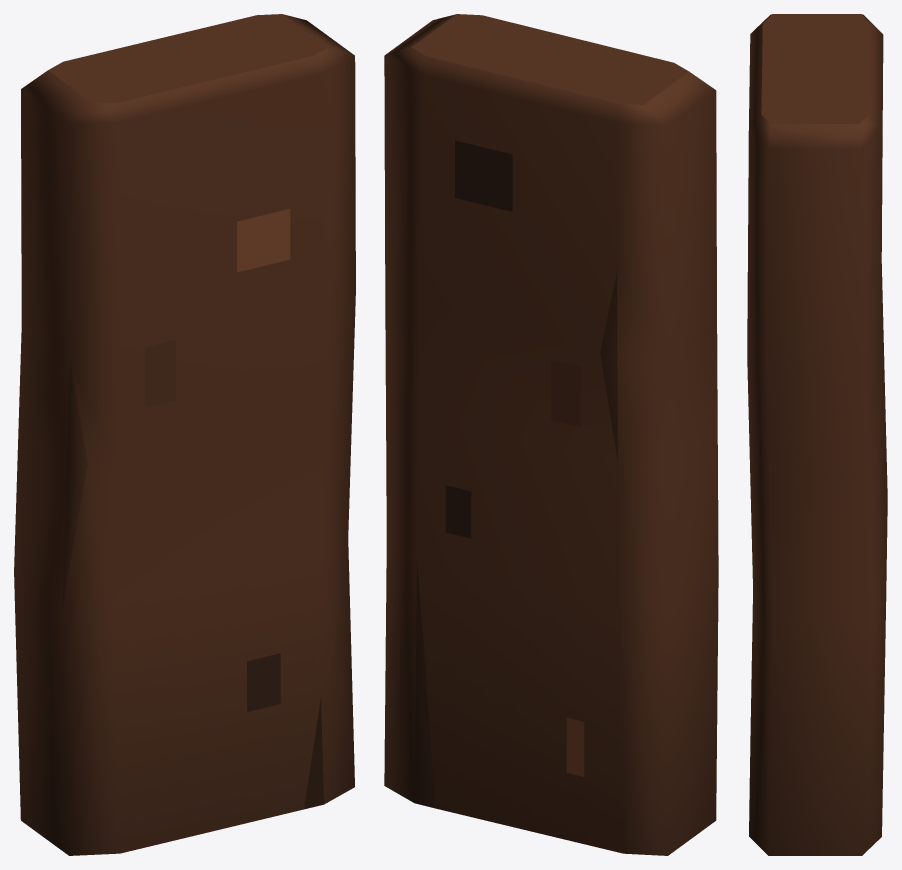
The model's file is FenceEndLow.fbx.
3 views of the same model, side by side, from view 1: azimuth 30°, elevation 25°; view 2: azimuth 150°, elevation 25°; view 3: azimuth 270°, elevation 25° (orthographic). The views are drawn at different scales.
Visible parts, largest first — view 1: Fence_End_Low; view 2: Fence_End_Low; view 3: Fence_End_Low.
Part boxes in pixels (x1,y1,x2,y2): Fence_End_Low: [14, 14, 355, 855]; Fence_End_Low: [384, 14, 718, 855]; Fence_End_Low: [747, 14, 887, 855].
Bounding box in the file's own units: 0.6181 × 1.52 × 0.2689.
